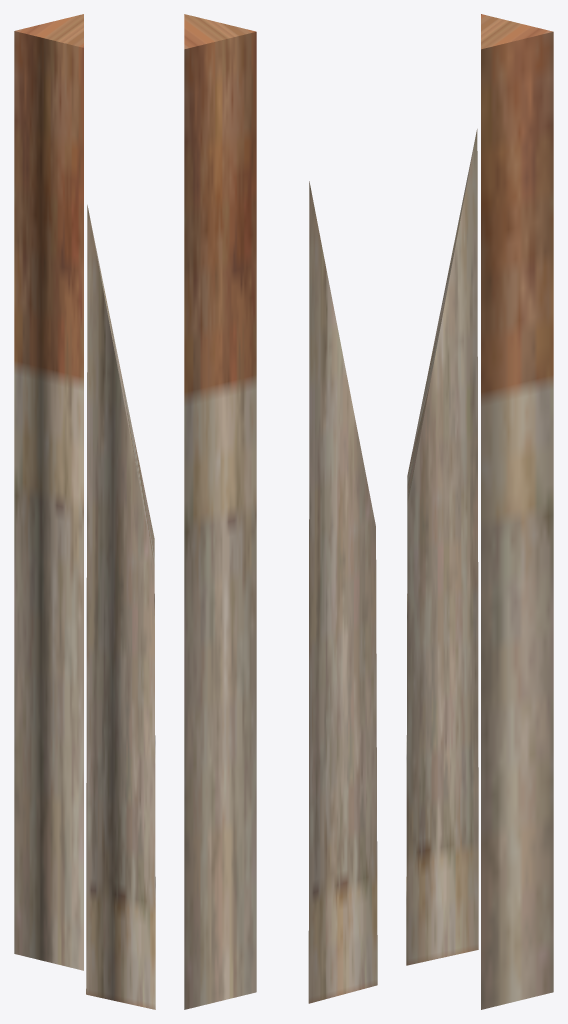
The model's file is thm_tato_debris_s04_l4.fbx.
3 renders of one model, left to right at view 1: azimuth 90°, elevation 25°; view 2: azimuth 150°, elevation 25°; view 3: azimuth 270°, elevation 25°, orthographic. The views are drawn at different scales.
Visible parts, largest first — view 1: mesh_node; view 2: mesh_node; view 3: mesh_node.
Boxes of the visible parts, <box> form: mesh_node: <box>14,14,155,1009</box>; mesh_node: <box>184,14,377,1009</box>; mesh_node: <box>406,14,553,1009</box>.
Size of the model in its own units: 0.8968 by 5.28 by 0.7333.
